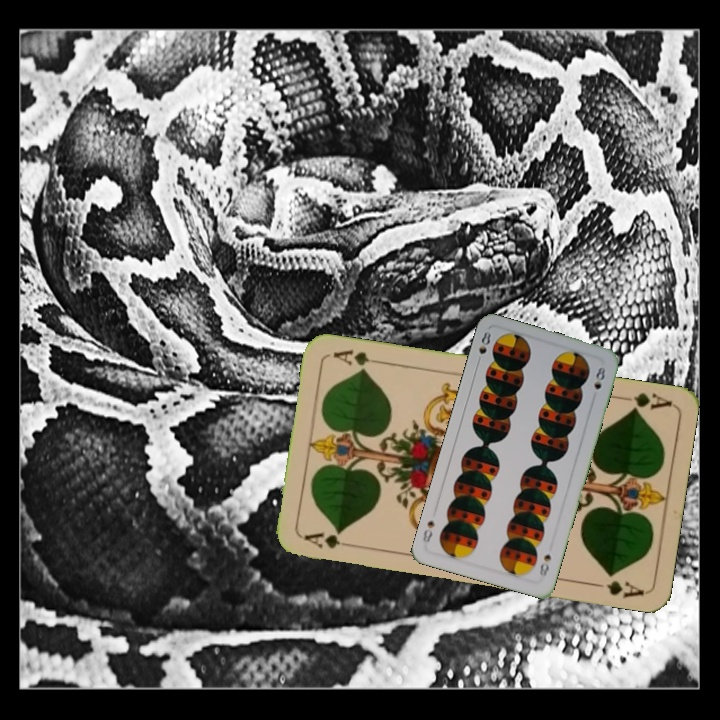GA: (614, 388, 673, 414), (300, 528, 359, 551)
S8: (473, 327, 494, 367), (535, 550, 553, 579)
